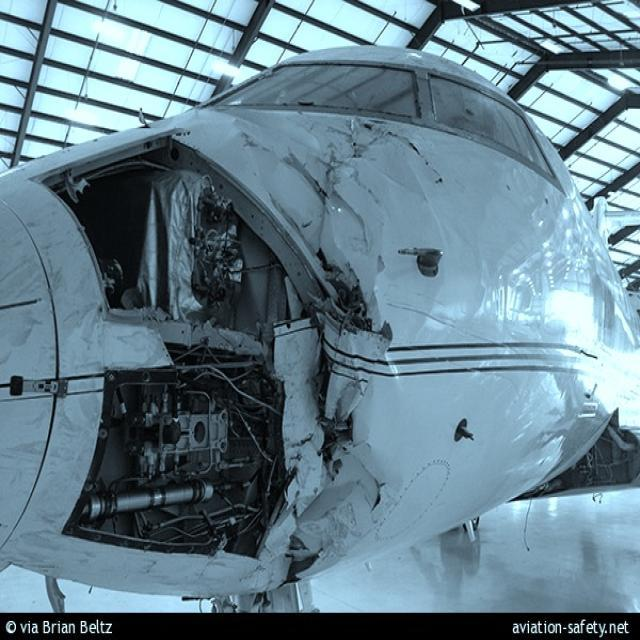crack: (358, 118, 444, 184), (346, 452, 388, 510)
